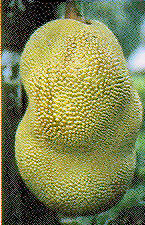jackfruit: (13, 17, 144, 219)
